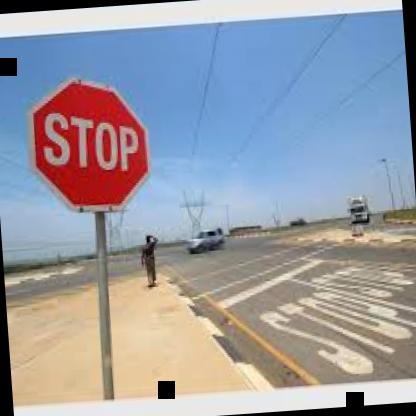car: (334, 182, 376, 240), (187, 219, 235, 259)
